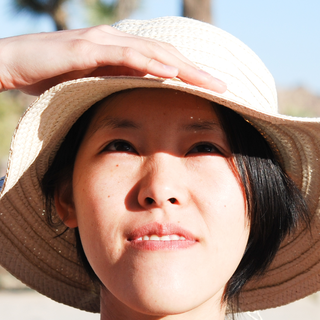eye: (94, 135, 140, 161), (182, 138, 230, 161)
